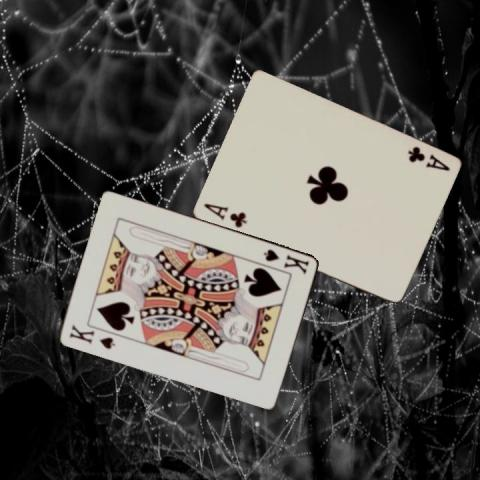Ac: (404, 143, 451, 173), (200, 201, 248, 229)
Ks: (260, 246, 311, 275), (67, 321, 118, 350)
